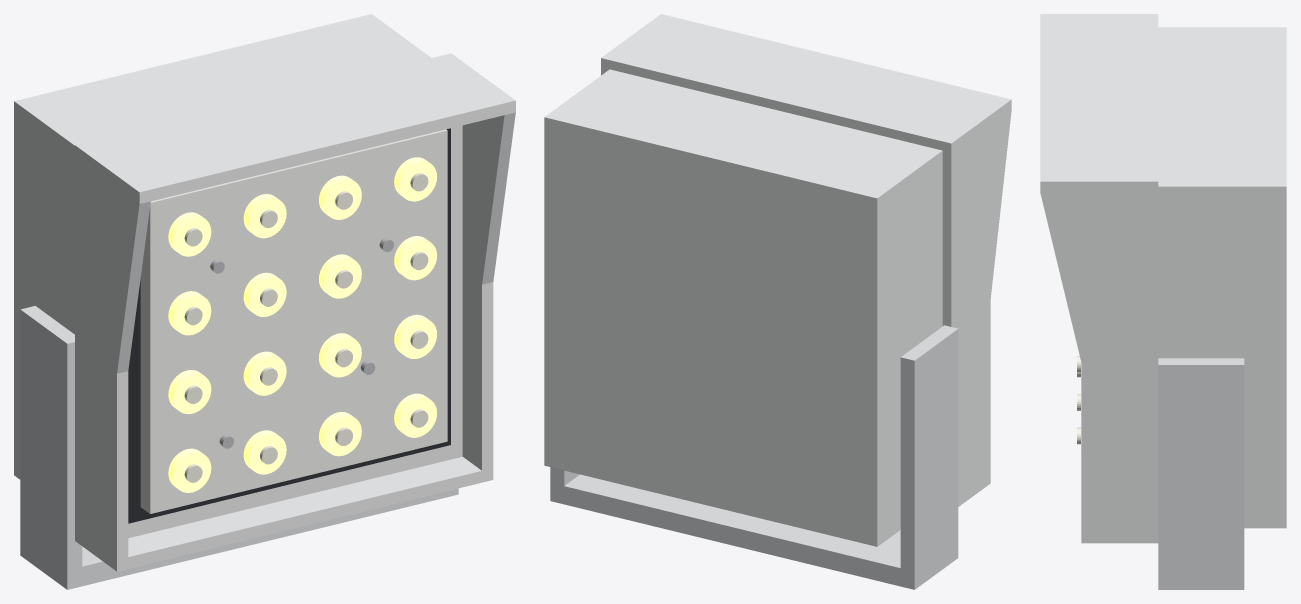
The model's file is 补光灯.fbx.
3 renders of one model, left to right at view 1: azimuth 30°, elevation 25°; view 2: azimuth 150°, elevation 25°; view 3: azimuth 270°, elevation 25°, orthographic. The views are drawn at different scales.
Parts seen in each view (by area): view 1: 20_U支架下横杆; view 2: 20_U支架下横杆; view 3: 20_U支架下横杆.
Boxes of the visible parts, box(x1,y1,x2,y2) form: 20_U支架下横杆: box(14, 14, 515, 589); 20_U支架下横杆: box(544, 14, 1011, 589); 20_U支架下横杆: box(1040, 14, 1286, 589).
Size of the model in its own units: 20.8 by 22.5 by 12.41.
